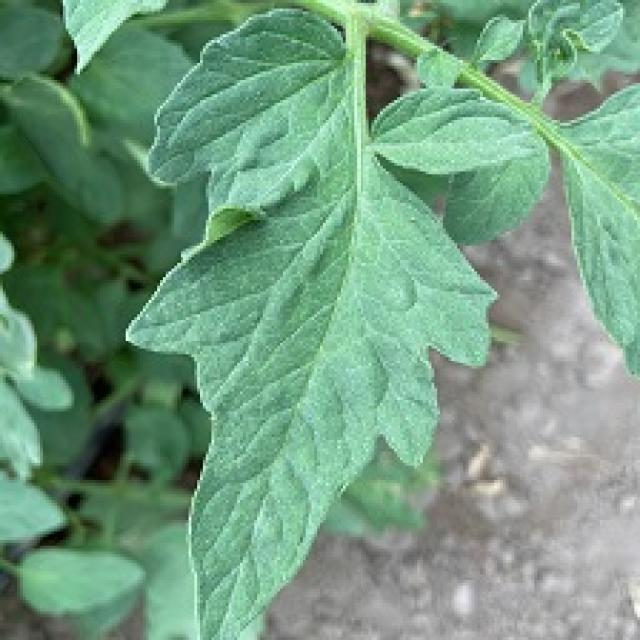Healthy: (60, 0, 558, 640), (374, 91, 534, 171)
